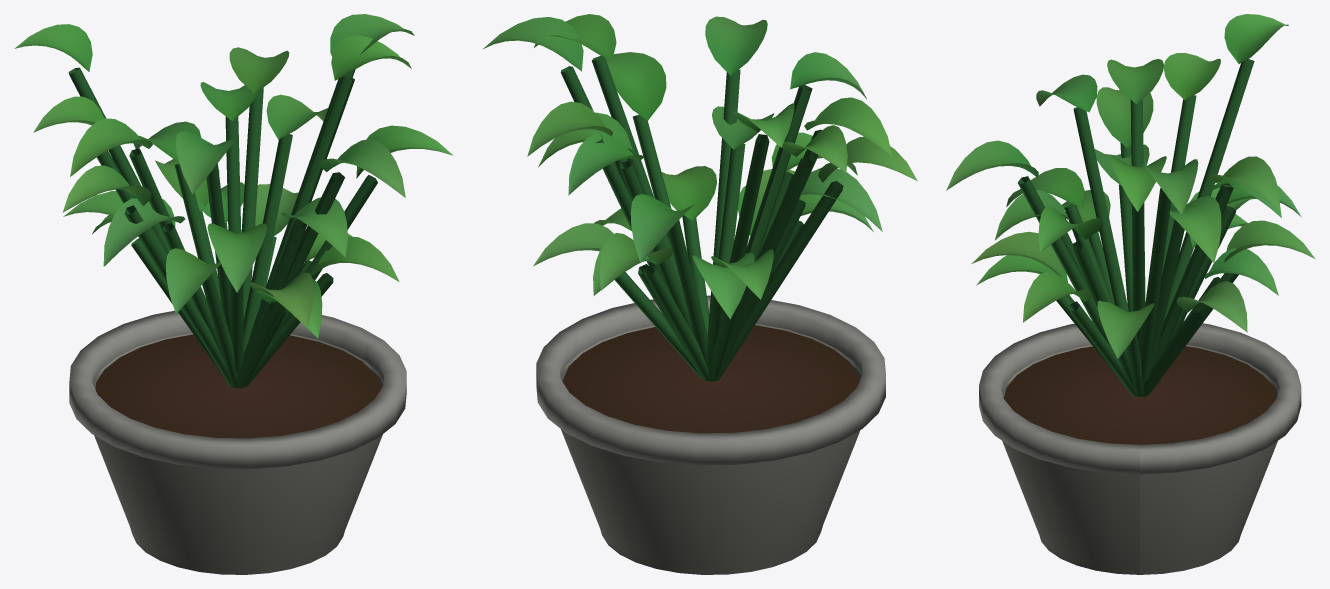
Rendered from manjericao.glb.
The picture shows the model from 3 angles, left to right: view 1: azimuth 30°, elevation 25°; view 2: azimuth 150°, elevation 25°; view 3: azimuth 270°, elevation 25°; orthographic projection. The views are drawn at different scales.
Visible parts, largest first — view 1: manjericao; view 2: manjericao; view 3: manjericao.
Boxes of the visible parts, x1,y1,x2,y2 form: manjericao: [14, 14, 452, 574]; manjericao: [483, 14, 917, 574]; manjericao: [946, 14, 1315, 574].
Size of the model in its own units: 0.2237 by 0.2641 by 0.1945.
